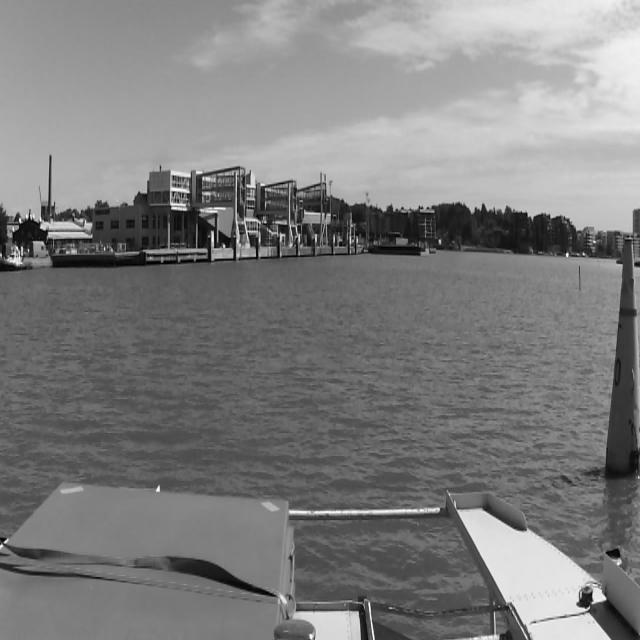buoy: (612, 240, 636, 475), (579, 265, 581, 290)
